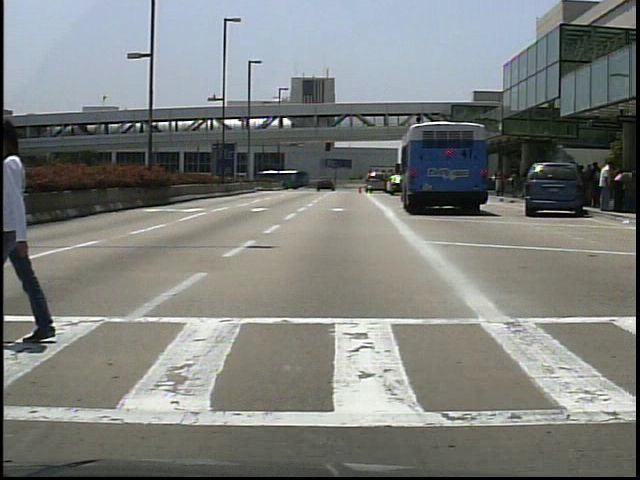person: (5, 117, 73, 358), (598, 158, 617, 212), (589, 160, 605, 211)
